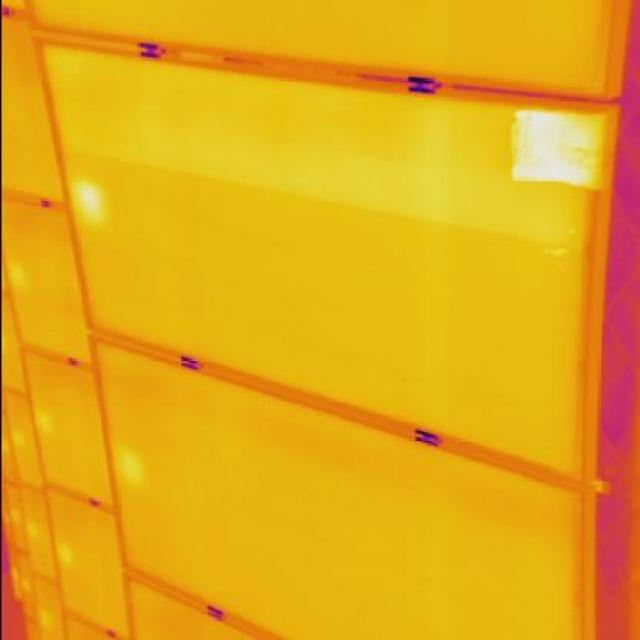hotspot: (501, 107, 602, 195)
